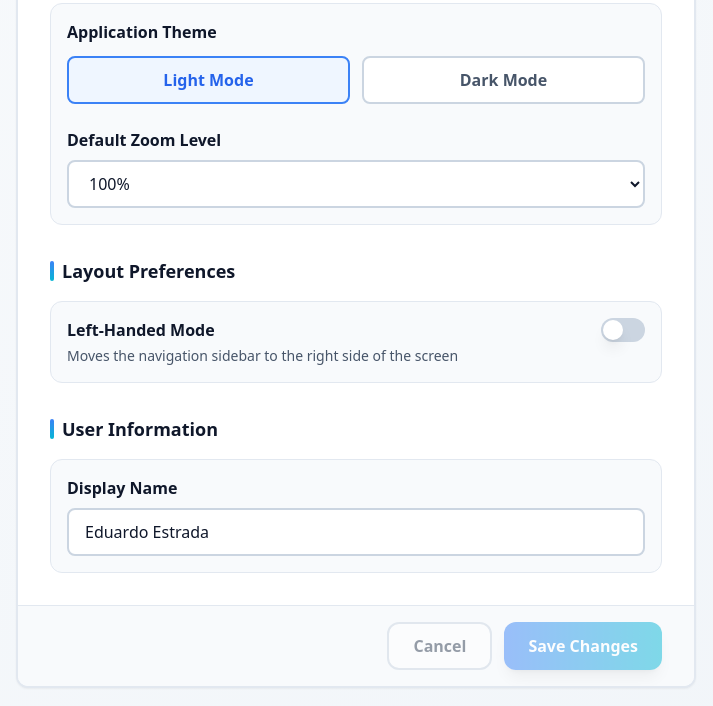
Test: SettingsPage Component › reverts changes when "Cancel" is clicked
The width and height of the screenshot is (713, 706).
(page scrolled)
Replace the text in the field labelled "Display Name" with "New Name". click: (356, 532)
box: [67, 508, 645, 556]
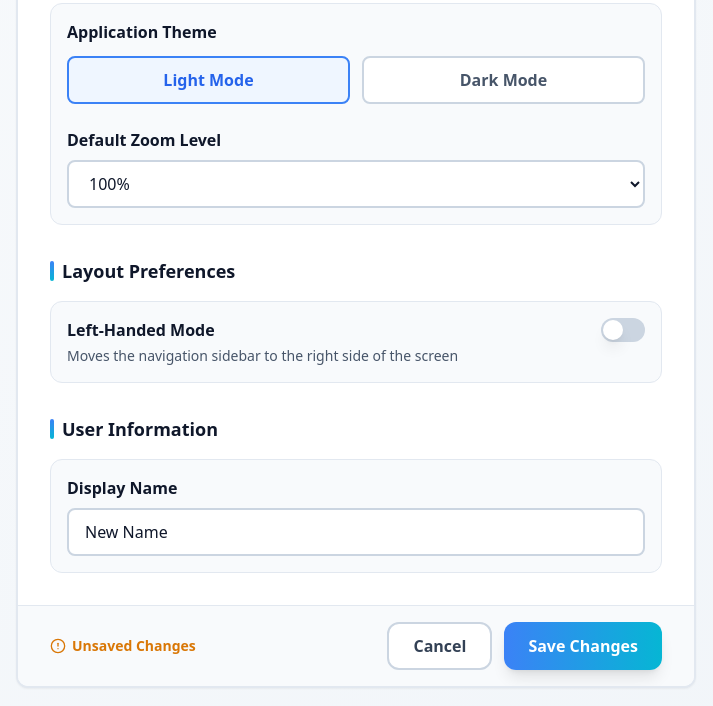
Click the button "Cancel". click: (440, 646)
box: [387, 622, 492, 670]
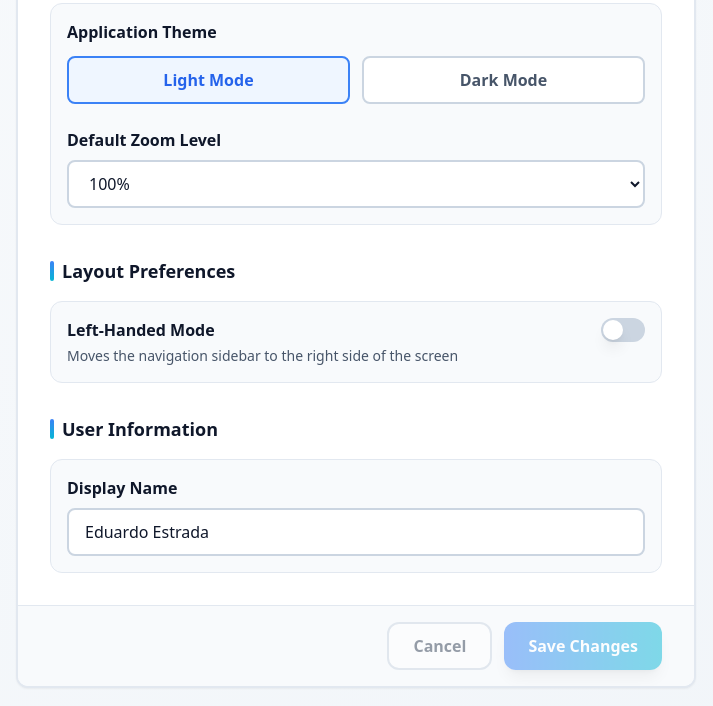
Expected: the field showing "Eduardo Estrada" is shown, [67, 508, 645, 556]
Expected: the text "Unsaved Changes" is gone
